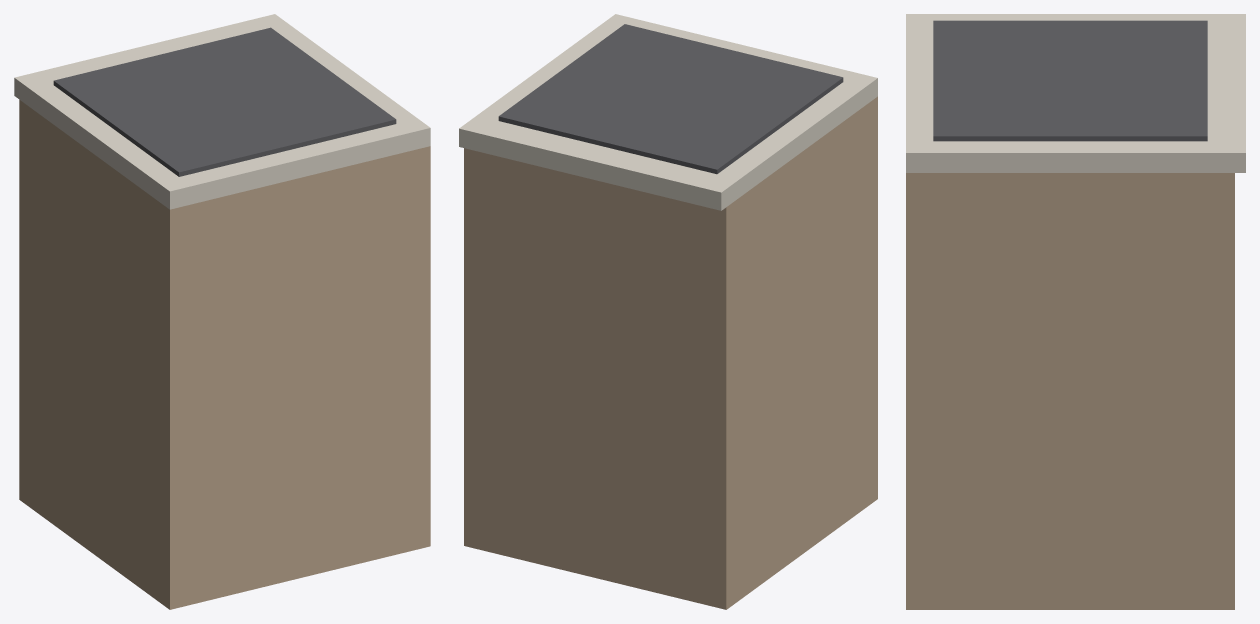
The model's file is kit_hob_060.glb.
3 renders of one model, left to right at view 1: azimuth 30°, elevation 25°; view 2: azimuth 150°, elevation 25°; view 3: azimuth 270°, elevation 25°, orthographic. The views are drawn at different scales.
Parts seen in each view (by area): view 1: kit_hob_060; view 2: kit_hob_060; view 3: kit_hob_060.
Part boxes in pixels (box(x1,y1,x2,y2)): kit_hob_060: box(14, 14, 430, 609); kit_hob_060: box(459, 14, 877, 609); kit_hob_060: box(906, 14, 1245, 609).
Size of what is drawn, in the model's own units: 0.6 by 0.93 by 0.62.
